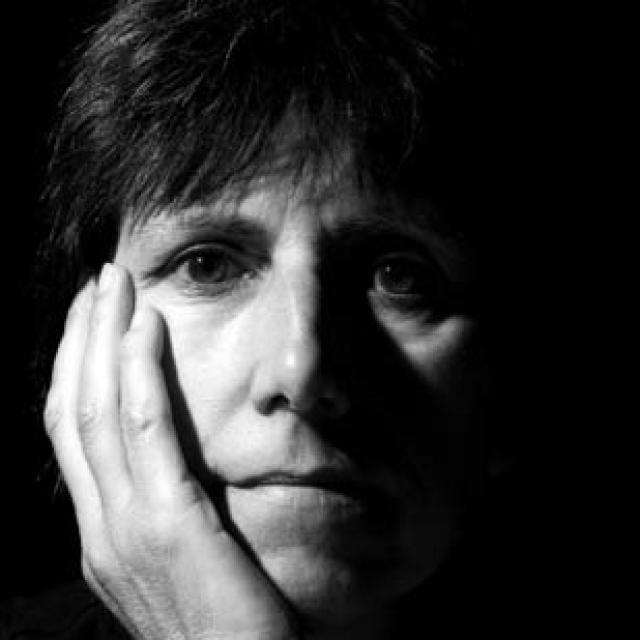Depress: (41, 104, 527, 638)
